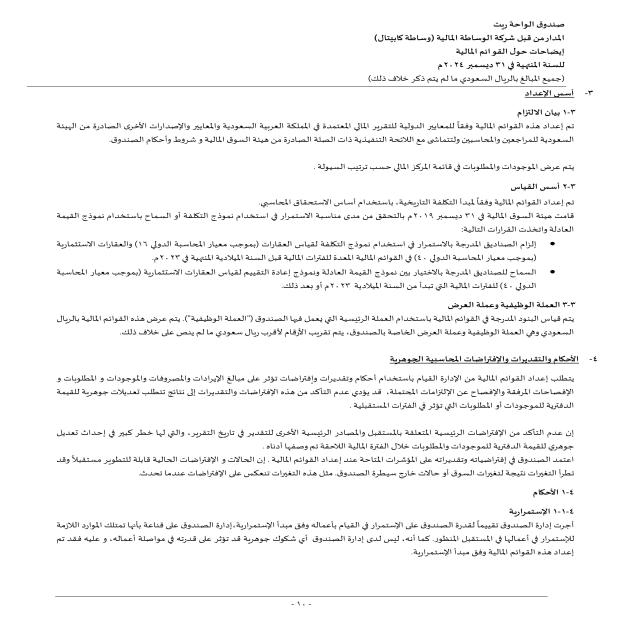notes: (452, 46, 569, 60)
text: (51, 81, 605, 575)
